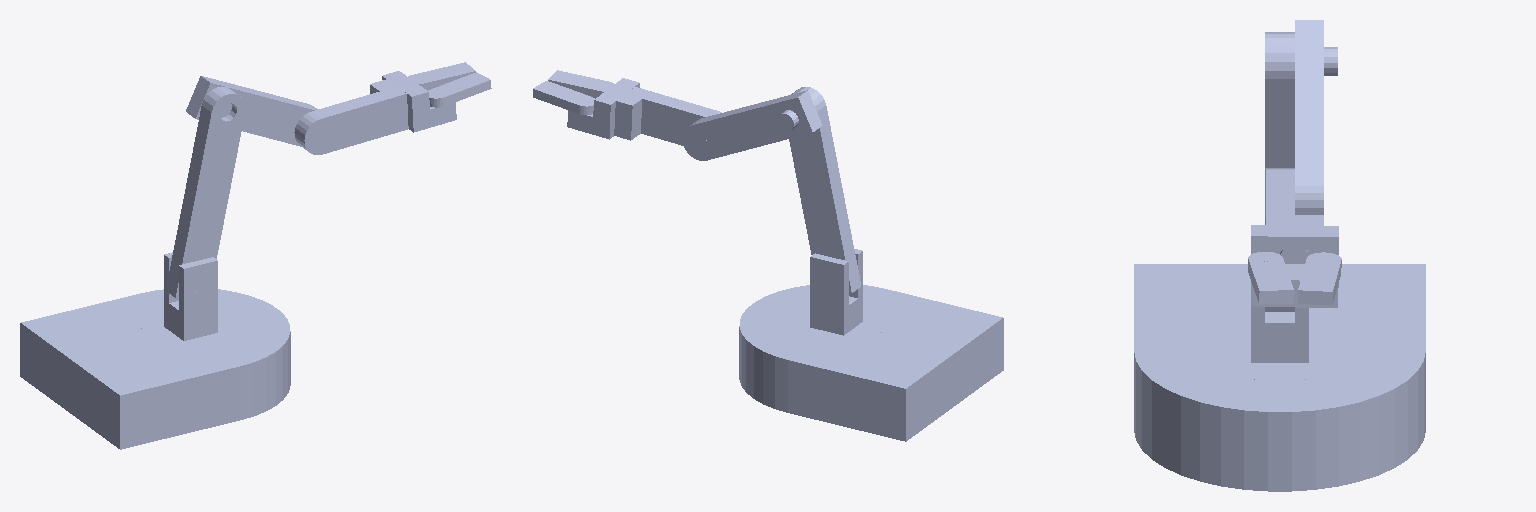
robot.urdf — Test_robot_arm_urdf:
<?xml version="1.0" encoding="utf-8"?>
<!-- This URDF was automatically created by SolidWorks to URDF Exporter! Originally created by [author] ([email redacted]) 
     Commit Version: 1.6.0-4-g7f85cfe  Build Version: 1.6.7995.38578
     For more information, please see http://wiki.ros.org/sw_urdf_exporter -->
<robot
  name="Test_robot_arm_urdf">
  <link
    name="base_link">
    <inertial>
      <origin
        xyz="-0.018036118645576 -1.38777878078145E-17 0.00500000000000002"
        rpy="0 0 0" />
      <mass
        value="0.268904862254809" />
      <inertia
        ixx="0.000259595057760308"
        ixy="-4.64486369477501E-21"
        ixz="1.04883980128331E-20"
        iyy="0.000340119882329264"
        iyz="7.85143496727774E-21"
        izz="0.00055937921075135" />
    </inertial>
    <visual>
      <origin
        xyz="0 0 0"
        rpy="0 0 0" />
      <geometry>
        <mesh
          filename="package://Test_robot_arm_urdf/meshes/base_link.STL" />
      </geometry>
      <material
        name="">
        <color
          rgba="0.792156862745098 0.819607843137255 0.933333333333333 1" />
      </material>
    </visual>
    <collision>
      <origin
        xyz="0 0 0"
        rpy="0 0 0" />
      <geometry>
        <mesh
          filename="package://Test_robot_arm_urdf/meshes/base_link.STL" />
      </geometry>
    </collision>
  </link>
  <link
    name="link1">
    <inertial>
      <origin
        xyz="0 0.0152760767648288 1.38777878078145E-17"
        rpy="0 0 0" />
      <mass
        value="0.049484510006475" />
      <inertia
        ixx="1.44933931173788E-05"
        ixy="-1.55105447584195E-21"
        ixz="3.35008148083976E-23"
        iyy="1.30794560050324E-05"
        iyz="-1.43252539617464E-20"
        izz="1.44092992717225E-05" />
    </inertial>
    <visual>
      <origin
        xyz="0 0 0"
        rpy="0 0 0" />
      <geometry>
        <mesh
          filename="package://Test_robot_arm_urdf/meshes/link1.STL" />
      </geometry>
      <material
        name="">
        <color
          rgba="0.792156862745098 0.819607843137255 0.933333333333333 1" />
      </material>
    </visual>
    <collision>
      <origin
        xyz="0 0 0"
        rpy="0 0 0" />
      <geometry>
        <mesh
          filename="package://Test_robot_arm_urdf/meshes/link1.STL" />
      </geometry>
    </collision>
  </link>
  <joint
    name="joint1"
    type="revolute">
    <origin
      xyz="0 0 0"
      rpy="1.5707963267949 0 0.00048595553319595" />
    <parent
      link="base_link" />
    <child
      link="link1" />
    <axis
      xyz="0 1 0" />
    <limit
      lower="-3.14"
      upper="3.14"
      effort="30"
      velocity="1" />
  </joint>
  <link
    name="link2">
    <inertial>
      <origin
        xyz="0.0406731623664074 -4.40402922463612E-16 1.2490009027033E-16"
        rpy="0 0 0" />
      <mass
        value="0.0215707963267949" />
      <inertia
        ixx="9.24963119063036E-07"
        ixy="1.49971564219488E-19"
        ixz="-5.74371405266492E-20"
        iyy="2.08019875016874E-05"
        iyz="-9.90135193225974E-22"
        izz="2.12888975322975E-05" />
    </inertial>
    <visual>
      <origin
        xyz="0 0 0"
        rpy="0 0 0" />
      <geometry>
        <mesh
          filename="package://Test_robot_arm_urdf/meshes/link2.STL" />
      </geometry>
      <material
        name="">
        <color
          rgba="0.792156862745098 0.819607843137255 0.933333333333333 1" />
      </material>
    </visual>
    <collision>
      <origin
        xyz="0 0 0"
        rpy="0 0 0" />
      <geometry>
        <mesh
          filename="package://Test_robot_arm_urdf/meshes/link2.STL" />
      </geometry>
    </collision>
  </link>
  <joint
    name="joint2"
    type="revolute">
    <origin
      xyz="0 0.05 0"
      rpy="0 0 1.36027365584717" />
    <parent
      link="link1" />
    <child
      link="link2" />
    <axis
      xyz="0 0 1" />
    <limit
      lower="-1.6"
      upper="1.6"
      effort="30"
      velocity="1" />
  </joint>
  <link
    name="link3">
    <inertial>
      <origin
        xyz="0.0259325565626759 -2.77555756156289E-17 -0.0100000000000001"
        rpy="0 0 0" />
      <mass
        value="0.0155707963267949" />
      <inertia
        ixx="6.74963119063035E-07"
        ixy="3.32143603548324E-21"
        ixz="-9.69481527306291E-22"
        iyy="7.83107506214792E-06"
        iyz="-5.19055834377025E-23"
        izz="8.16798509275796E-06" />
    </inertial>
    <visual>
      <origin
        xyz="0 0 0"
        rpy="0 0 0" />
      <geometry>
        <mesh
          filename="package://Test_robot_arm_urdf/meshes/link3.STL" />
      </geometry>
      <material
        name="">
        <color
          rgba="0.792156862745098 0.819607843137255 0.933333333333333 1" />
      </material>
    </visual>
    <collision>
      <origin
        xyz="0 0 0"
        rpy="0 0 0" />
      <geometry>
        <mesh
          filename="package://Test_robot_arm_urdf/meshes/link3.STL" />
      </geometry>
    </collision>
  </link>
  <joint
    name="joint3"
    type="revolute">
    <origin
      xyz="0.09 0 0"
      rpy="0 0 -1.8121" />
    <parent
      link="link2" />
    <child
      link="link3" />
    <axis
      xyz="0 0 1" />
    <limit
      lower="-0.8"
      upper="2.7"
      effort="30"
      velocity="1" />
  </joint>
  <link
    name="link4">
    <inertial>
      <origin
        xyz="0.0239984127214184 0 -0.00202167551736201"
        rpy="0 0 0" />
      <mass
        value="0.0147488935718911" />
      <inertia
        ixx="7.96798369353232E-07"
        ixy="1.15549565450944E-21"
        ixz="2.87511388569346E-07"
        iyy="5.38329994148092E-06"
        iyz="-1.47470793581719E-22"
        izz="5.47976760403113E-06" />
    </inertial>
    <visual>
      <origin
        xyz="0 0 0"
        rpy="0 0 0" />
      <geometry>
        <mesh
          filename="package://Test_robot_arm_urdf/meshes/link4.STL" />
      </geometry>
      <material
        name="">
        <color
          rgba="0.792156862745098 0.819607843137255 0.933333333333333 1" />
      </material>
    </visual>
    <collision>
      <origin
        xyz="0 0 0"
        rpy="0 0 0" />
      <geometry>
        <mesh
          filename="package://Test_robot_arm_urdf/meshes/link4.STL" />
      </geometry>
    </collision>
  </link>
  <joint
    name="joint4"
    type="revolute">
    <origin
      xyz="0.06 0 0"
      rpy="0 0 0.49962" />
    <parent
      link="link3" />
    <child
      link="link4" />
    <axis
      xyz="0 0 1" />
    <limit
      lower="-3.4"
      upper="2"
      effort="30"
      velocity="1" />
  </joint>
  <link
    name="link5">
    <inertial>
      <origin
        xyz="2.77555756156289E-17 -0.00230984507556972 -0.0122961098924234"
        rpy="0 0 0" />
      <mass
        value="0.00943489322441546" />
      <inertia
        ixx="7.79819569718008E-07"
        ixy="-4.73147310380332E-22"
        ixz="-3.02463760858843E-22"
        iyy="1.29421266255072E-06"
        iyz="-1.34321818800598E-07"
        izz="1.08951424254473E-06" />
    </inertial>
    <visual>
      <origin
        xyz="0 0 0"
        rpy="0 0 0" />
      <geometry>
        <mesh
          filename="package://Test_robot_arm_urdf/meshes/link5.STL" />
      </geometry>
      <material
        name="">
        <color
          rgba="0.792156862745098 0.819607843137255 0.933333333333333 1" />
      </material>
    </visual>
    <collision>
      <origin
        xyz="0 0 0"
        rpy="0 0 0" />
      <geometry>
        <mesh
          filename="package://Test_robot_arm_urdf/meshes/link5.STL" />
      </geometry>
    </collision>
  </link>
  <joint
    name="joint5"
    type="revolute">
    <origin
      xyz="0.04904 0 -0.005"
      rpy="-1.5708 -1.557 1.5708" />
    <parent
      link="link4" />
    <child
      link="link5" />
    <axis
      xyz="0 0 1" />
    <limit
      lower="-3.14"
      upper="3.14"
      effort="30"
      velocity="1" />
  </joint>
  <link
    name="hand_left">
    <inertial>
      <origin
        xyz="0 0.0025 -0.0131747024615203"
        rpy="0 0 0" />
      <mass
        value="0.00189868657799617" />
      <inertia
        ixx="1.7910910878194E-07"
        ixy="2.68833699079734E-24"
        ixz="-1.39586728368323E-22"
        iyy="1.98467894440696E-07"
        iyz="1.35318347160579E-22"
        izz="2.72699797337394E-08" />
    </inertial>
    <visual>
      <origin
        xyz="0 0 0"
        rpy="0 0 0" />
      <geometry>
        <mesh
          filename="package://Test_robot_arm_urdf/meshes/hand_left.STL" />
      </geometry>
      <material
        name="">
        <color
          rgba="0.792156862745098 0.819607843137255 0.933333333333333 1" />
      </material>
    </visual>
    <collision>
      <origin
        xyz="0 0 0"
        rpy="0 0 0" />
      <geometry>
        <mesh
          filename="package://Test_robot_arm_urdf/meshes/hand_left.STL" />
      </geometry>
    </collision>
  </link>
  <joint
    name="hand_left_joint"
    type="revolute">
    <origin
      xyz="-0.01 0 -0.01846"
      rpy="0 -0.10379 0" />
    <parent
      link="link5" />
    <child
      link="hand_left" />
    <axis
      xyz="0 1 0" />
    <limit
      lower="0"
      upper="0.8"
      effort="30"
      velocity="1" />
  </joint>
  <link
    name="hand_right">
    <inertial>
      <origin
        xyz="-1.38777878078145E-17 0.00249999999999997 -0.0131747024615203"
        rpy="0 0 0" />
      <mass
        value="0.00189868657799617" />
      <inertia
        ixx="1.79109108781941E-07"
        ixy="1.07533479631894E-23"
        ixz="3.59823566460567E-23"
        iyy="1.98467894440696E-07"
        iyz="1.43961738326905E-22"
        izz="2.72699797337394E-08" />
    </inertial>
    <visual>
      <origin
        xyz="0 0 0"
        rpy="0 0 0" />
      <geometry>
        <mesh
          filename="package://Test_robot_arm_urdf/meshes/hand_right.STL" />
      </geometry>
      <material
        name="">
        <color
          rgba="0.792156862745098 0.819607843137255 0.933333333333333 1" />
      </material>
    </visual>
    <collision>
      <origin
        xyz="0 0 0"
        rpy="0 0 0" />
      <geometry>
        <mesh
          filename="package://Test_robot_arm_urdf/meshes/hand_right.STL" />
      </geometry>
    </collision>
  </link>
  <joint
    name="hand_right_joint"
    type="revolute">
    <origin
      xyz="0.01 0 -0.01846"
      rpy="0 0.12954 0" />
    <parent
      link="link5" />
    <child
      link="hand_right" />
    <axis
      xyz="0 1 0" />
    <limit
      lower="-0.8"
      upper="0"
      effort="30"
      velocity="1" />
  </joint>
</robot>

--- Render facts (derived) ---
3 views of the same robot in one strip: view 1: azimuth 30°, elevation 25°; view 2: azimuth 150°, elevation 25°; view 3: azimuth 270°, elevation 25° (orthographic).
Model Test_robot_arm_urdf with 8 links and 7 joints (7 revolute), rooted at base_link, posed every joint at zero.
Visible links, largest first — view 1: base_link, link2, link1, link4, link3, link5, hand_right, hand_left; view 2: base_link, link2, link3, link1, link4, link5, hand_left, hand_right; view 3: base_link, link1, link3, link2, link5, link4, hand_right, hand_left.
Link boxes in pixels (<box>): base_link: <box>20,289,290,449</box>; link2: <box>166,87,245,297</box>; link1: <box>141,252,240,350</box>; link4: <box>294,79,408,154</box>; link3: <box>186,76,317,146</box>; link5: <box>382,71,456,132</box>; hand_right: <box>428,72,491,107</box>; hand_left: <box>408,62,475,90</box>; base_link: <box>739,285,1003,441</box>; link2: <box>789,87,860,292</box>; link3: <box>682,90,822,160</box>; link1: <box>788,249,884,344</box>; link4: <box>614,87,721,151</box>; link5: <box>567,78,639,139</box>; hand_left: <box>533,81,594,114</box>; hand_right: <box>548,70,613,98</box>; base_link: <box>1134,264,1425,491</box>; link1: <box>1207,307,1352,380</box>; link3: <box>1295,20,1337,214</box>; link2: <box>1265,32,1294,311</box>; link5: <box>1251,225,1338,307</box>; link4: <box>1265,168,1323,263</box>; hand_right: <box>1248,252,1293,304</box>; hand_left: <box>1298,252,1341,305</box>.
Bounding box of the posed robot: 0.24 × 0.1 × 0.1614 m (x, y, z).
8 mesh visuals loaded from 8 distinct referenced files (8 binary STL).